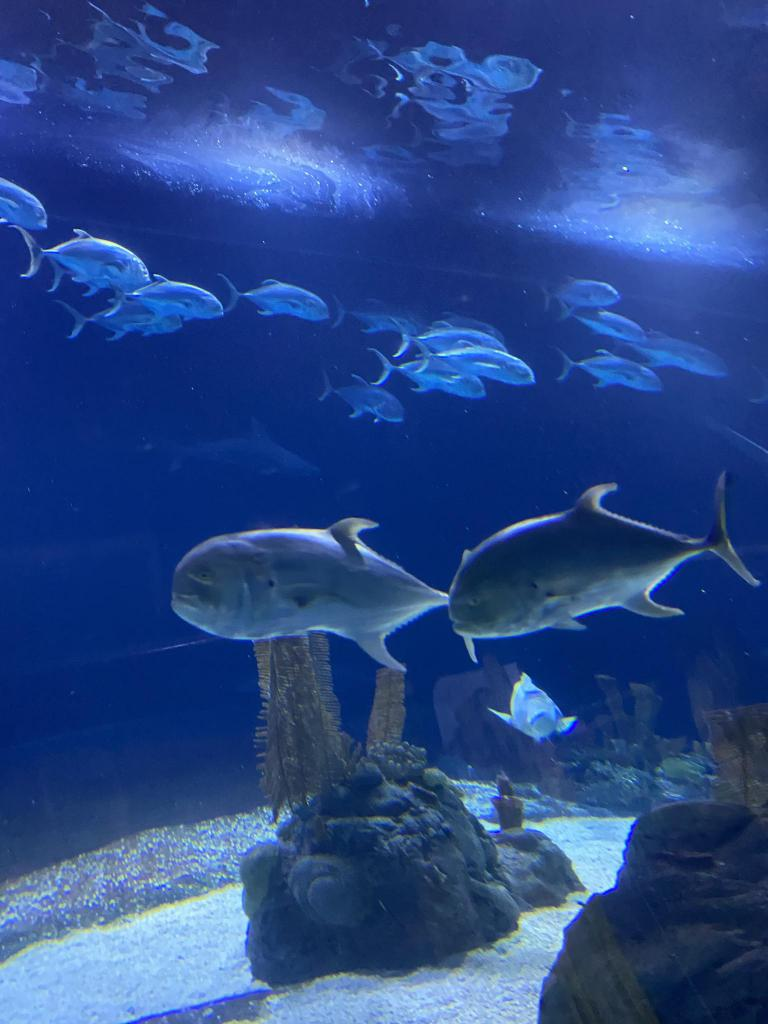fish: (446, 471, 760, 639), (168, 516, 482, 668), (20, 230, 152, 302), (383, 310, 509, 368), (366, 344, 488, 400), (105, 272, 229, 326), (410, 338, 536, 388), (490, 672, 574, 744), (550, 345, 660, 399), (219, 273, 332, 323), (58, 300, 184, 342), (638, 324, 730, 378), (318, 369, 406, 425), (544, 272, 618, 316), (0, 174, 49, 233)
shark: (143, 420, 323, 488)
